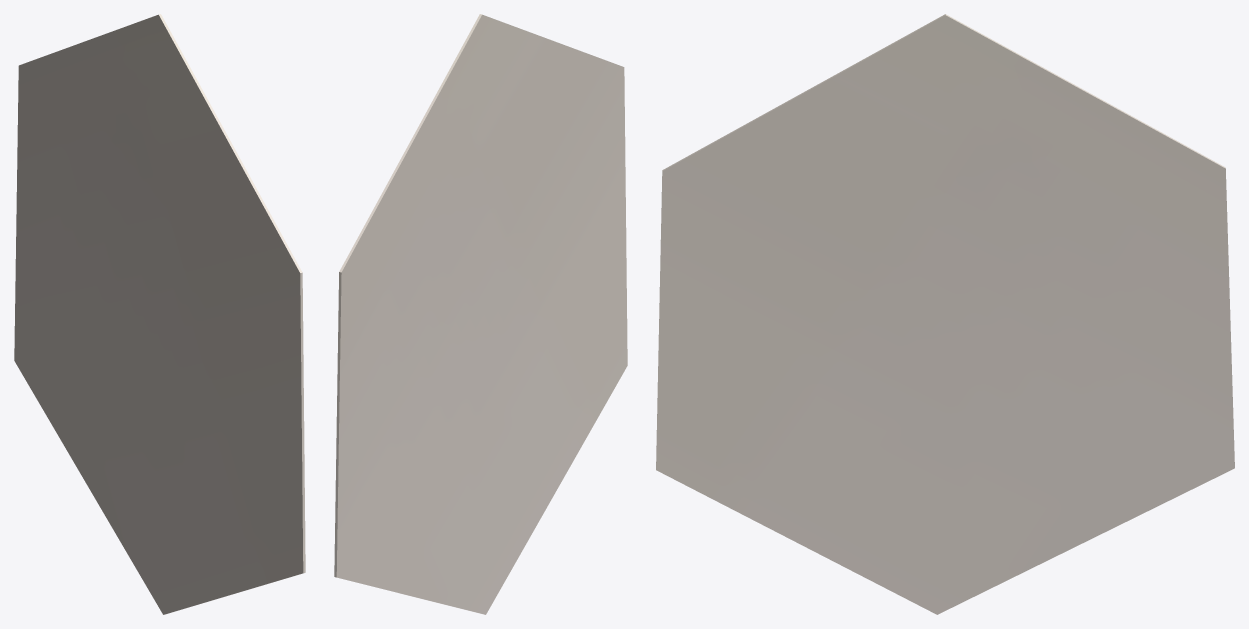
The model's file is akustikabsorber_Farbe2.glb.
The picture shows the model from 3 angles, left to right: view 1: azimuth 30°, elevation 25°; view 2: azimuth 150°, elevation 25°; view 3: azimuth 270°, elevation 25°; orthographic projection.
Visible parts, largest first — view 1: Plane.001; view 2: Plane.001; view 3: Plane.001.
Boxes of the visible parts, <box> form: Plane.001: <box>14,14,305,614</box>; Plane.001: <box>334,14,627,614</box>; Plane.001: <box>656,14,1234,614</box>.
Bounding box in the file's own units: 0.00262 × 0.4701 × 0.4114.
1 material, 1 textured.
